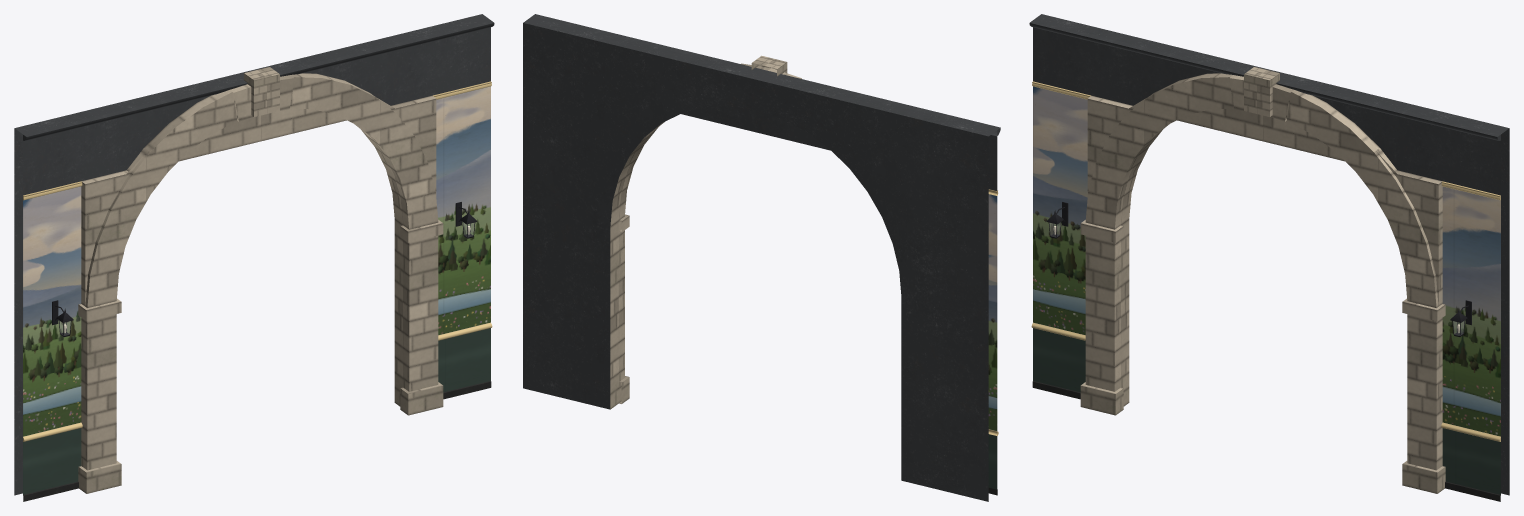
File: SM_QUE_Wall_Archway_8m.fbx
3 views of the same model, side by side, from view 1: azimuth 30°, elevation 25°; view 2: azimuth 150°, elevation 25°; view 3: azimuth 330°, elevation 25° (orthographic).
Parts seen in each view (by area): view 1: SM_QUE_Wall_Archway_8m; view 2: SM_QUE_Wall_Archway_8m; view 3: SM_QUE_Wall_Archway_8m.
Boxes of the visible parts, x1,y1,x2,y2 form: SM_QUE_Wall_Archway_8m: [14, 14, 494, 501]; SM_QUE_Wall_Archway_8m: [523, 14, 1000, 501]; SM_QUE_Wall_Archway_8m: [1029, 14, 1509, 501].
Size of the model in its own units: 8 by 6.12 by 0.6419.
